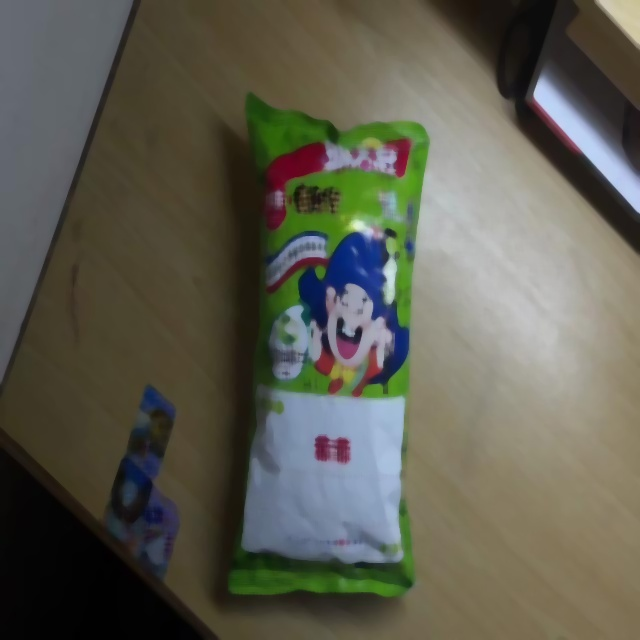Good-Luck: (225, 88, 430, 604)
